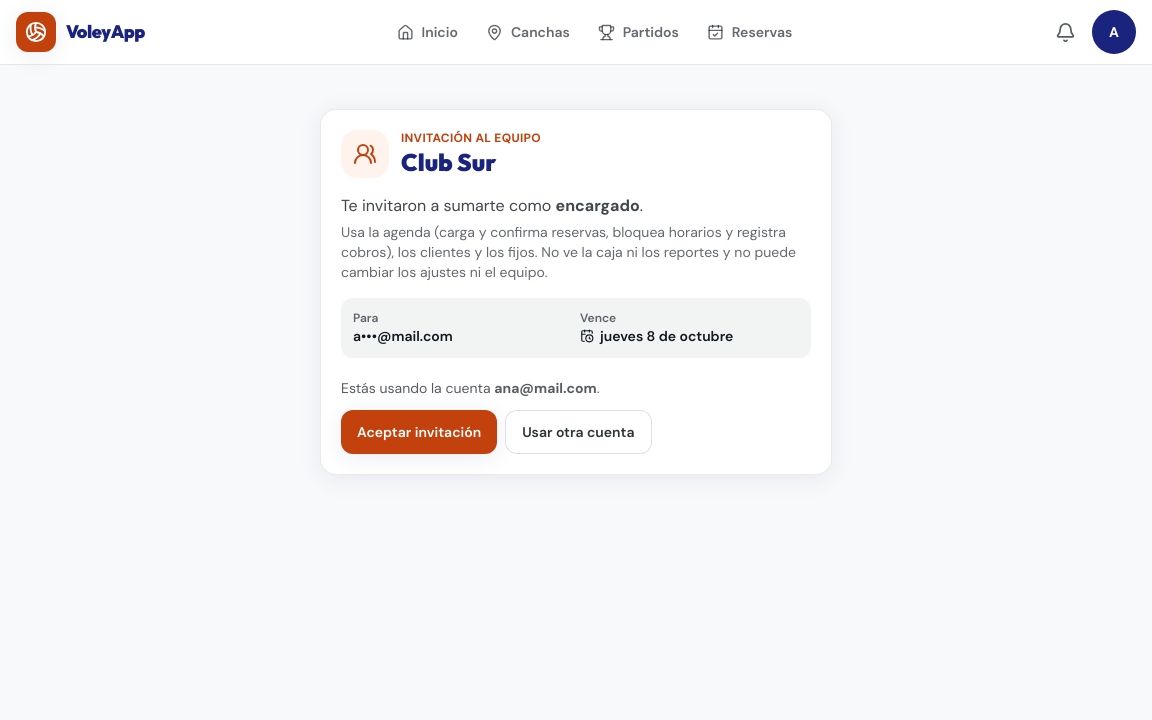
Test: Invitación al equipo de un club › muestra el error del servidor
Click the button "Aceptar invitación".
click(419, 432)  # box [341, 410, 497, 454]
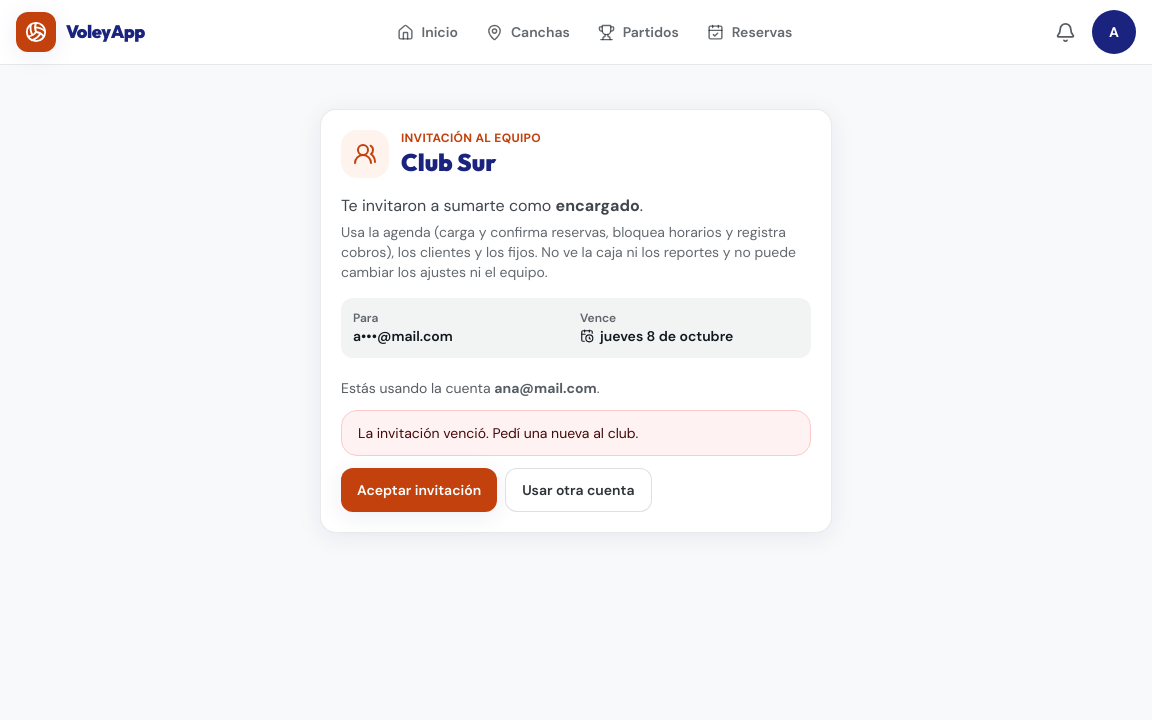
Now the text "La invitación venció. Pedí una nueva al club." is shown, box [358, 424, 638, 442]
